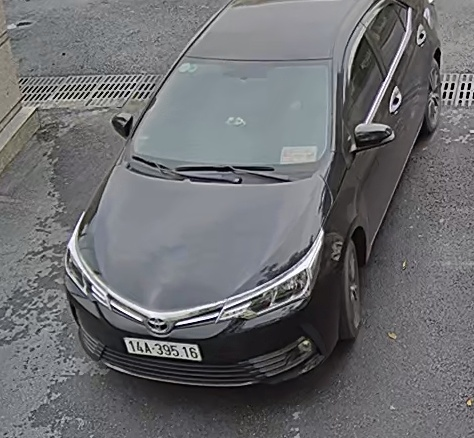vehicle plate: (118, 329, 203, 365)
